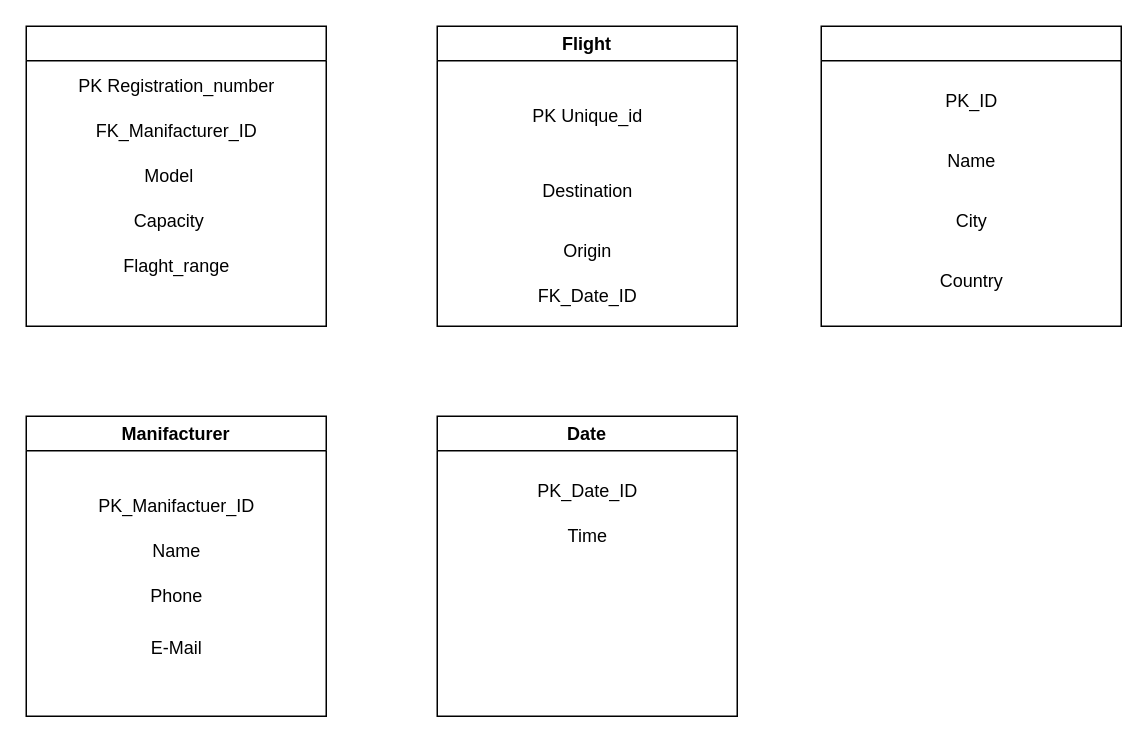
Image size: 1148x743. Some labels were removed from this diagram. Here are the shapes that lost their labels. From the top down, the box of each, then its label:
(25, 25, 326, 326): Plane
(820, 25, 1121, 326): Airport
